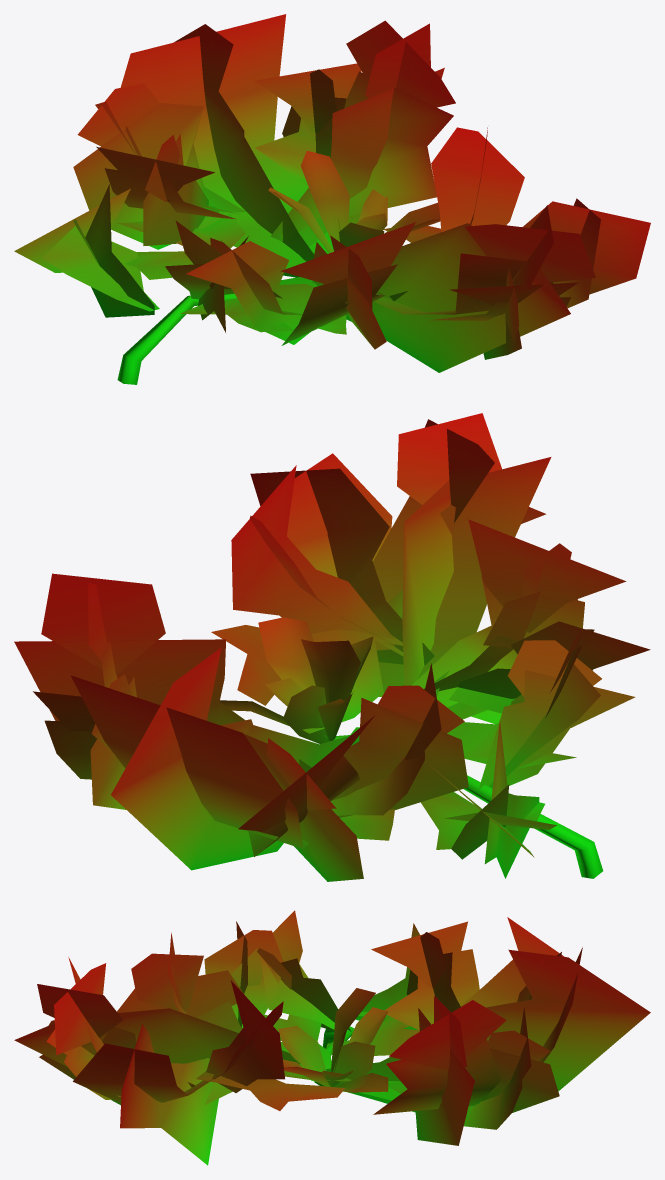
Rendered from Alpine Bearberry_LOD4_Var7_xb0gdazqx.fbx.
3 views of the same model, one above another, from view 1: azimuth 30°, elevation 25°; view 2: azimuth 150°, elevation 25°; view 3: azimuth 270°, elevation 25° (orthographic). The views are drawn at different scales.
Parts seen in each view (by area): view 1: _srll_Var7_LOD4; view 2: _srll_Var7_LOD4; view 3: _srll_Var7_LOD4.
Part boxes in pixels (box(x1,y1,x2,y2)): _srll_Var7_LOD4: box(14, 14, 650, 384); _srll_Var7_LOD4: box(14, 413, 650, 881); _srll_Var7_LOD4: box(14, 910, 650, 1165).
Bounding box in the file's own units: 24.91 × 12.39 × 35.87.
